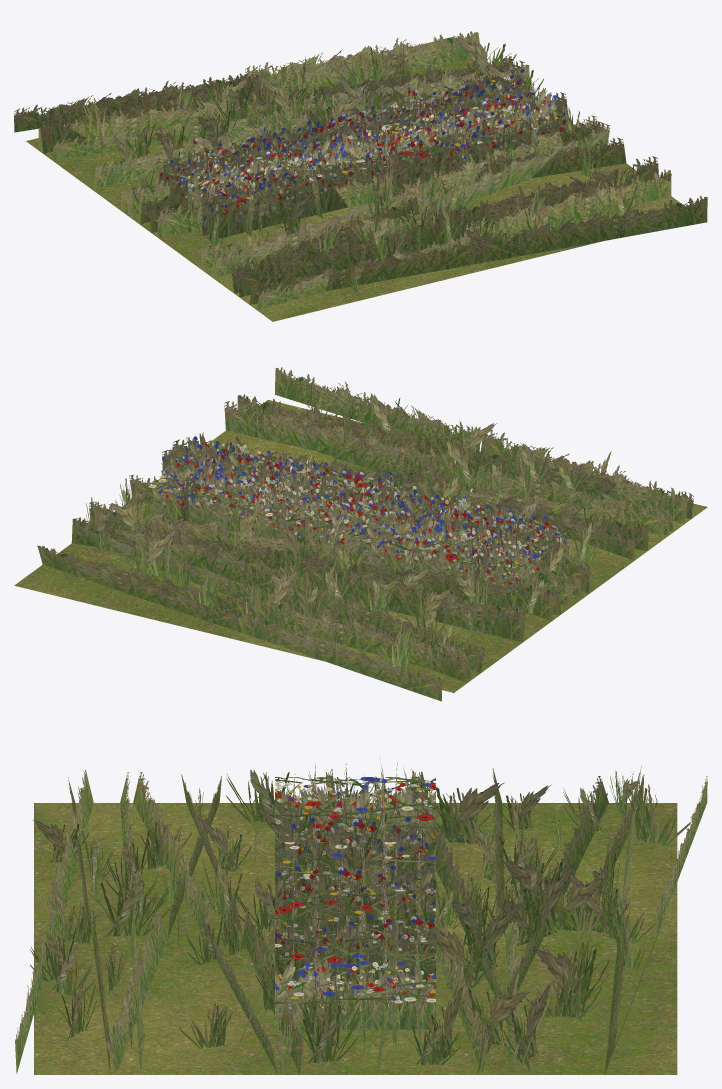
Rendered from meadow_grass_patch.glb.
The picture shows the model from 3 angles, top to bottom: view 1: azimuth 30°, elevation 25°; view 2: azimuth 150°, elevation 25°; view 3: azimuth 270°, elevation 25°; orthographic projection. The views are drawn at different scales.
Parts seen in each view (by area): view 1: meadow_grass_patch_LOD0, wildflower_strip_LOD0, meadow_grass_patch_FLOOR, wildflower_strip_FAR; view 2: meadow_grass_patch_LOD0, wildflower_strip_LOD0, meadow_grass_patch_FLOOR, wildflower_strip_FAR; view 3: meadow_grass_patch_FLOOR, meadow_grass_patch_LOD0, wildflower_strip_LOD0, wildflower_strip_FAR.
Part boxes in pixels (x1,y1,x2,y2): meadow_grass_patch_LOD0: (14, 31, 707, 309); wildflower_strip_LOD0: (159, 75, 566, 239); meadow_grass_patch_FLOOR: (26, 36, 682, 321); wildflower_strip_FAR: (156, 69, 570, 233); meadow_grass_patch_LOD0: (37, 367, 693, 701); wildflower_strip_LOD0: (152, 432, 569, 610); meadow_grass_patch_FLOOR: (14, 400, 707, 692); wildflower_strip_FAR: (147, 433, 575, 587); meadow_grass_patch_FLOOR: (34, 803, 677, 1074); meadow_grass_patch_LOD0: (15, 766, 707, 1074); wildflower_strip_LOD0: (270, 755, 437, 1051); wildflower_strip_FAR: (275, 762, 435, 1049).
Size of what is drawn, in the model's own units: 6.06 by 0.9852 by 6.47.
2 materials, 2 textured.
